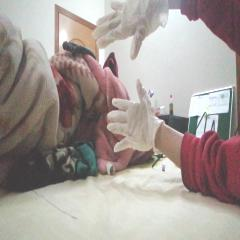gloved: (94, 0, 168, 59), (107, 77, 163, 150)
